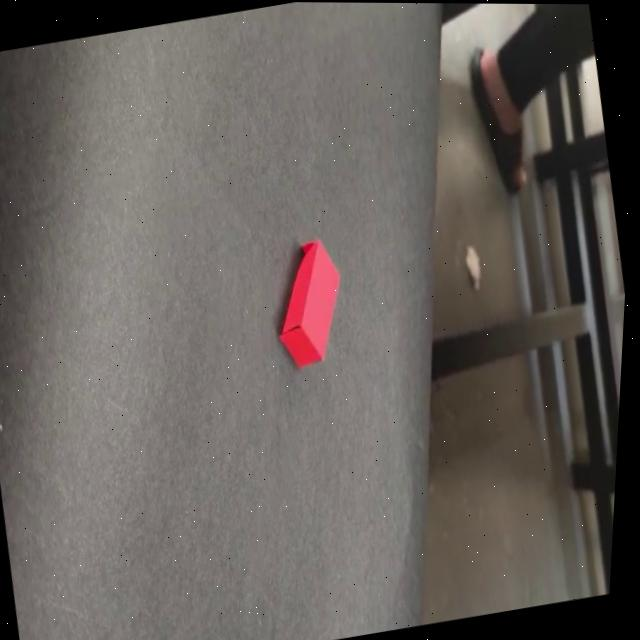red block: (261, 236, 357, 375)
